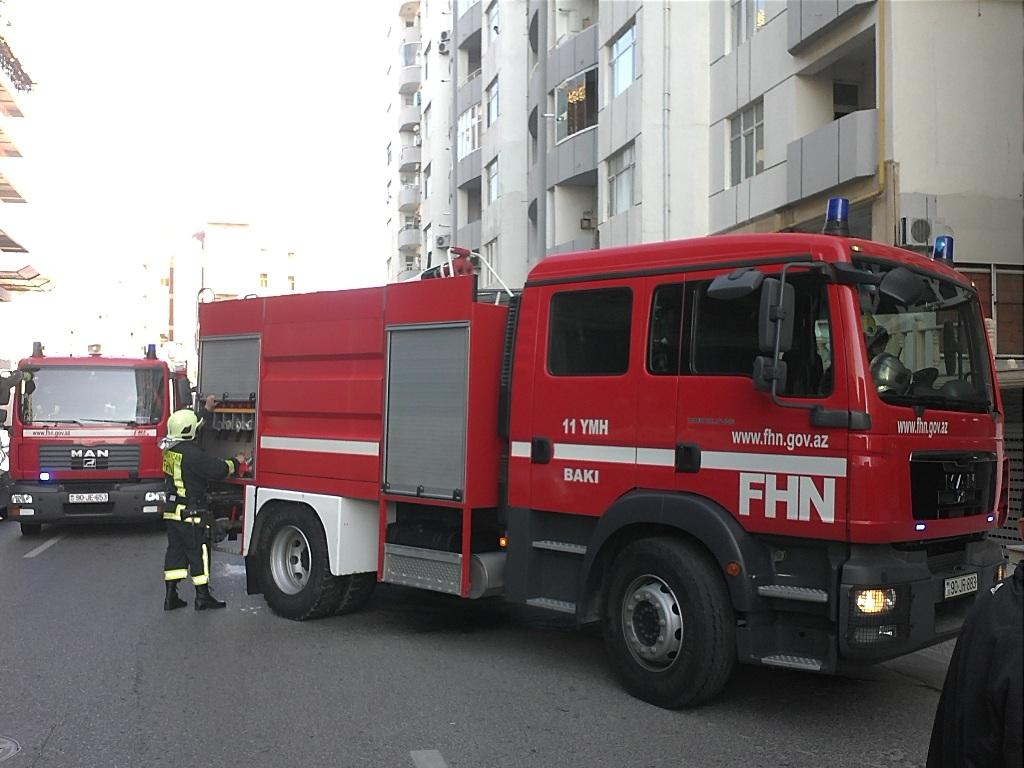Fire-engine: (180, 184, 1024, 768), (4, 300, 192, 586)
